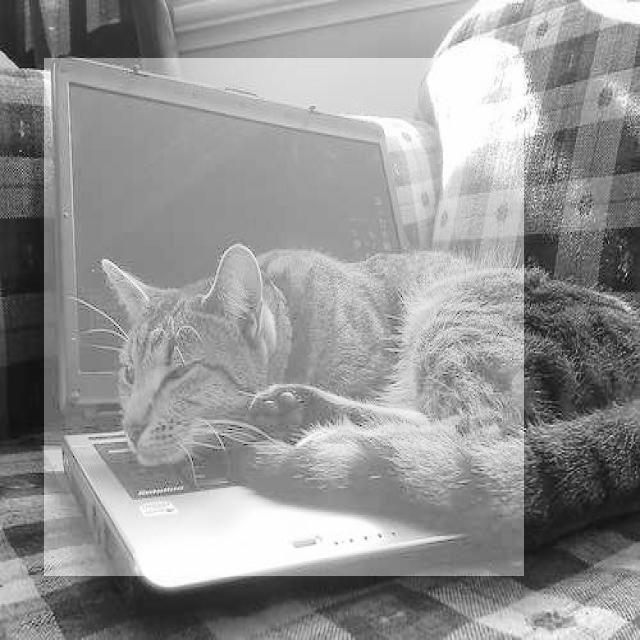-keyboard-: (44, 58, 524, 576)
